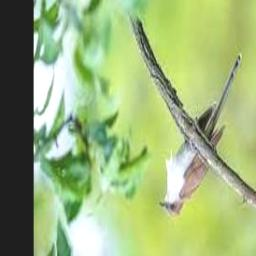Cuckoo: (159, 54, 242, 217)
